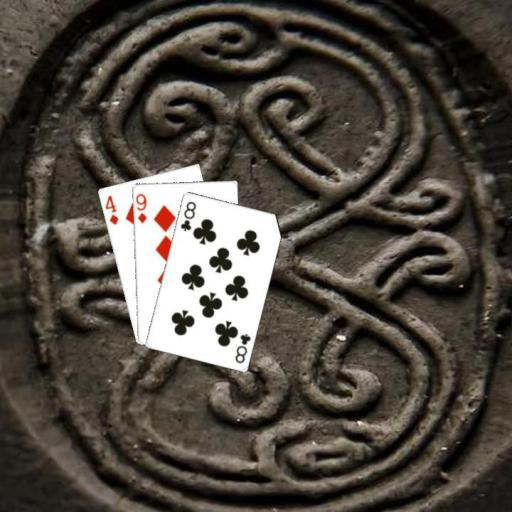4D: (102, 192, 120, 226)
8C: (177, 198, 198, 233), (232, 330, 252, 365)
9D: (133, 190, 148, 225)
